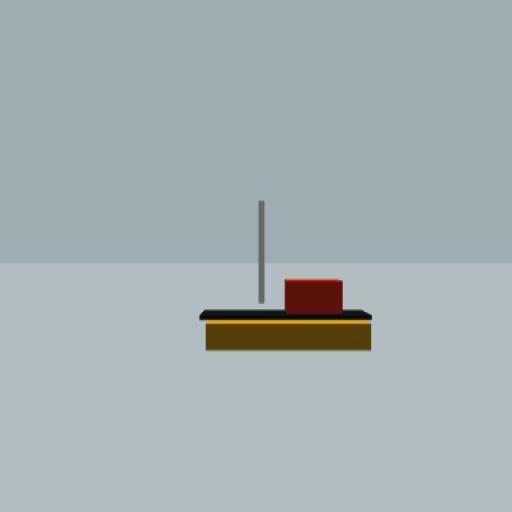vessel: (196, 198, 374, 351)
